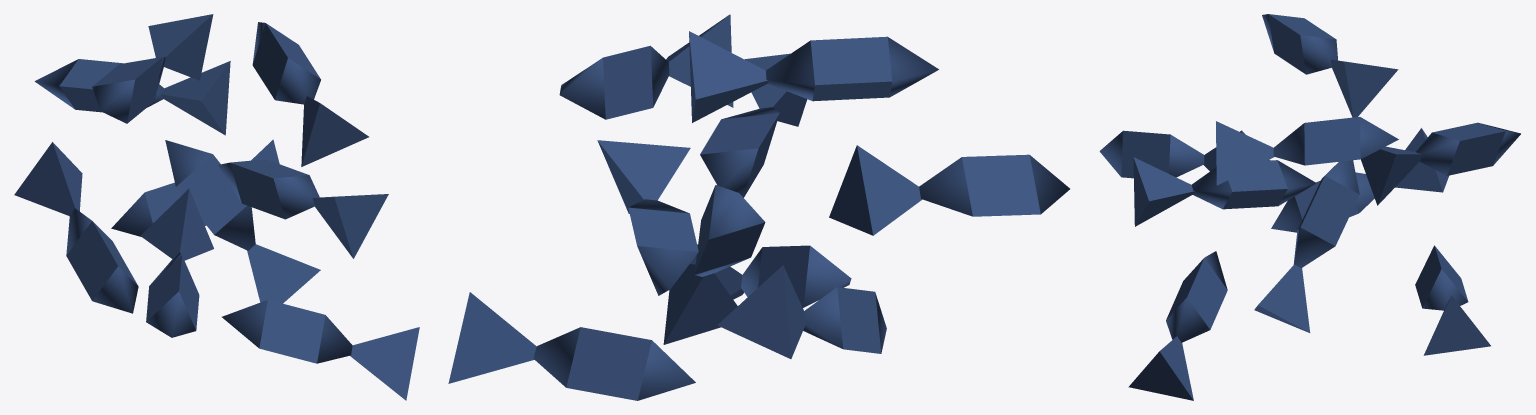
Rendered from shark_esa.obj.
3 renders of one model, left to right at view 1: azimuth 30°, elevation 25°; view 2: azimuth 150°, elevation 25°; view 3: azimuth 270°, elevation 25°, orthographic. The views are drawn at different scales.
Parts seen in each view (by area): view 1: pasted__group3 group4 pasted__pasted__pasted__group1 pasted__pas, pasted__group3 group4 pasted__pasted__pasted__pCone1 pasted__pas, group3 pasted__pasted__pCone1 pasted__pasted__group1 pasted__gro, pasted__group1 group3 pasted__pCylinder1, group1 pCylinder1, group3 pasted__pasted__group1 pasted__group pasted__pasted__pCyl, pasted__group1 group pasted__pCylinder1, group3 pasted__pasted__group1 pasted__group2 pasted__pasted__pCy, pasted__group1 group2 pasted__pCylinder1, pasted__pCone1 pasted__group1 group2, pasted__pCone1 pasted__group1 group3, pCone1 group1 (+2 smaller); view 2: pasted__group3 group4 pasted__pasted__pasted__group1 pasted__pas, pasted__group3 group4 pasted__pasted__pasted__pCone1 pasted__pas, pasted__group1 group2 pasted__pCylinder1, pasted__pasted__group1 pasted__group3 group4 pasted__pasted__pCy, group3 pasted__pasted__group1 pasted__group2 pasted__pasted__pCy, group3 pasted__pasted__pCone1 pasted__pasted__group1 pasted__gro, pasted__group1 group pasted__pCylinder1, group3 pasted__pasted__group1 pasted__group pasted__pasted__pCyl, pasted__pasted__pCone1 pasted__pasted__group1 pasted__group3 gro, group1 pCylinder1, pasted__pCone1 pasted__group1 group2, pasted__group1 group3 pasted__pCylinder1 (+3 smaller); view 3: pasted__group3 group4 pasted__pasted__pasted__group1 pasted__pas, pasted__group1 group pasted__pCylinder1, group1 pCylinder1, group3 pasted__pasted__group1 pasted__group pasted__pasted__pCyl, pasted__group1 group3 pasted__pCylinder1, group3 pasted__pasted__group1 pasted__group2 pasted__pasted__pCy, pasted__group3 group4 pasted__pasted__pasted__pCone1 pasted__pas, pasted__group1 group2 pasted__pCylinder1, group3 pasted__pasted__pCone1 pasted__pasted__group1 pasted__gro, pasted__pCone1 pasted__group1 group3, pasted__pCone1 pasted__group1 group, pasted__pCone1 pasted__group1 group2 (+3 smaller).
Boxes of the visible parts, x1=… form: pasted__group3 group4 pasted__pasted__pasted__group1 pasted__pas: x1=34, y1=59, x2=164, y2=313; pasted__group3 group4 pasted__pasted__pasted__pCone1 pasted__pas: x1=14, y1=61, x2=230, y2=215; group3 pasted__pasted__pCone1 pasted__pasted__group1 pasted__gro: x1=140, y1=189, x2=388, y2=260; pasted__group1 group3 pasted__pCylinder1: x1=222, y1=300, x2=352, y2=363; group1 pCylinder1: x1=165, y1=140, x2=255, y2=250; group3 pasted__pasted__group1 pasted__group pasted__pasted__pCyl: x1=218, y1=159, x2=319, y2=219; pasted__group1 group pasted__pCylinder1: x1=252, y1=22, x2=320, y2=104; group3 pasted__pasted__group1 pasted__group2 pasted__pasted__pCy: x1=146, y1=252, x2=199, y2=337; pasted__group1 group2 pasted__pCylinder1: x1=92, y1=57, x2=165, y2=123; pasted__pCone1 pasted__group1 group2: x1=148, y1=14, x2=213, y2=80; pasted__pCone1 pasted__group1 group3: x1=350, y1=327, x2=419, y2=400; pCone1 group1: x1=247, y1=244, x2=320, y2=303; pasted__group3 group4 pasted__pasted__pasted__group1 pasted__pas: x1=628, y1=199, x2=886, y2=353; pasted__group3 group4 pasted__pasted__pasted__pCone1 pasted__pas: x1=597, y1=140, x2=805, y2=358; pasted__group1 group2 pasted__pCylinder1: x1=766, y1=36, x2=938, y2=101; pasted__pasted__group1 pasted__group3 group4 pasted__pasted__pCy: x1=533, y1=327, x2=695, y2=400; group3 pasted__pasted__group1 pasted__group2 pasted__pasted__pCy: x1=919, y1=154, x2=1069, y2=216; group3 pasted__pasted__pCone1 pasted__pasted__group1 pasted__gro: x1=744, y1=53, x2=922, y2=235; pasted__group1 group pasted__pCylinder1: x1=559, y1=45, x2=669, y2=119; group3 pasted__pasted__group1 pasted__group pasted__pasted__pCyl: x1=700, y1=107, x2=779, y2=197; pasted__pasted__pCone1 pasted__pasted__group1 pasted__group3 gro: x1=448, y1=292, x2=536, y2=383; group1 pCylinder1: x1=694, y1=185, x2=765, y2=276; pasted__pCone1 pasted__group1 group2: x1=689, y1=31, x2=768, y2=122; pasted__group1 group3 pasted__pCylinder1: x1=741, y1=245, x2=851, y2=307; pasted__group3 group4 pasted__pasted__pasted__group1 pasted__pas: x1=1271, y1=122, x2=1520, y2=232; pasted__group1 group pasted__pCylinder1: x1=1273, y1=117, x2=1398, y2=165; group1 pCylinder1: x1=1293, y1=160, x2=1359, y2=268; group3 pasted__pasted__group1 pasted__group pasted__pasted__pCyl: x1=1191, y1=160, x2=1316, y2=209; pasted__group1 group3 pasted__pCylinder1: x1=1166, y1=251, x2=1227, y2=342; group3 pasted__pasted__group1 pasted__group2 pasted__pasted__pCy: x1=1099, y1=130, x2=1204, y2=178; pasted__group3 group4 pasted__pasted__pasted__pCone1 pasted__pas: x1=1361, y1=128, x2=1448, y2=205; pasted__group1 group2 pasted__pCylinder1: x1=1262, y1=14, x2=1337, y2=74; group3 pasted__pasted__pCone1 pasted__pasted__group1 pasted__gro: x1=1133, y1=130, x2=1269, y2=226; pasted__pCone1 pasted__group1 group3: x1=1128, y1=336, x2=1193, y2=400; pasted__pCone1 pasted__group1 group: x1=1216, y1=121, x2=1274, y2=185; pasted__pCone1 pasted__group1 group2: x1=1331, y1=59, x2=1398, y2=117.
Size of the model in its own units: 0.957 by 0.9941 by 1.28.
